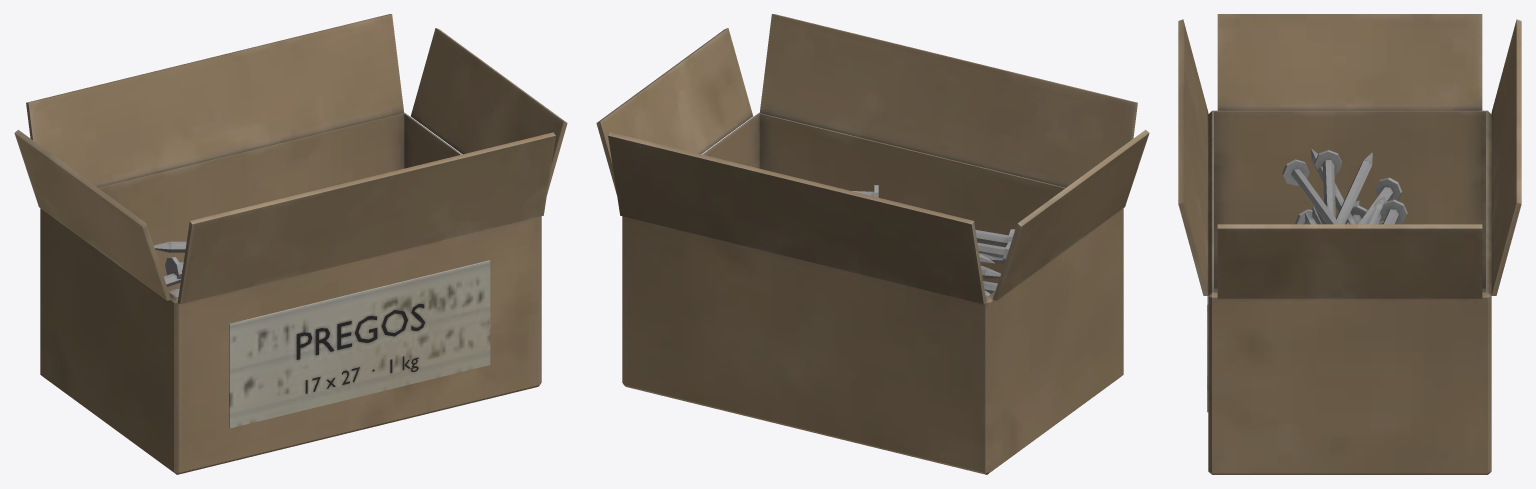
File: caixa_pregos.glb
The picture shows the model from 3 angles, left to right: view 1: azimuth 30°, elevation 25°; view 2: azimuth 150°, elevation 25°; view 3: azimuth 270°, elevation 25°; orthographic projection. The views are drawn at different scales.
Visible parts, largest first — view 1: caixa, etiqueta, pregos; view 2: caixa, pregos; view 3: caixa, pregos.
Part boxes in pixels (bbox=[...]): caixa: bbox=[14, 14, 567, 474]; etiqueta: bbox=[229, 260, 490, 428]; pregos: bbox=[153, 241, 186, 297]; caixa: bbox=[596, 14, 1149, 474]; pregos: bbox=[852, 185, 1015, 297]; caixa: bbox=[1178, 14, 1521, 474]; pregos: bbox=[1282, 149, 1407, 224].
Bounding box in the file's own units: 0.111 × 0.066 × 0.0752.
Materials: 1 (1 with a texture image).
